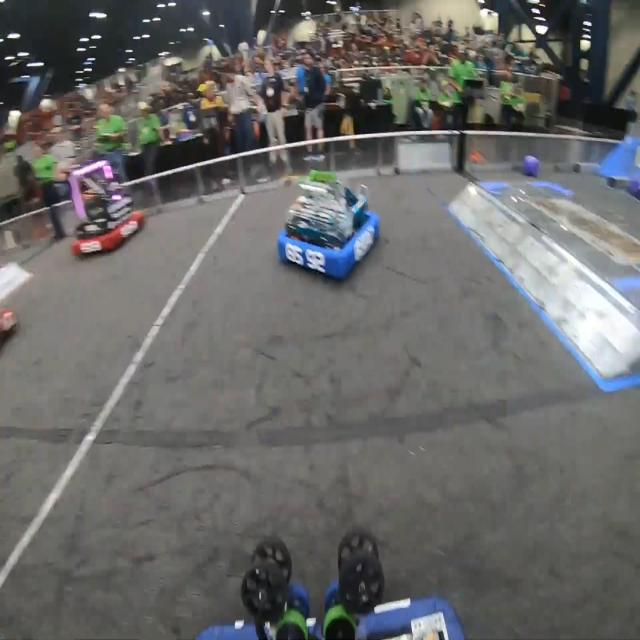robot: (276, 168, 381, 283), (68, 160, 145, 258)
